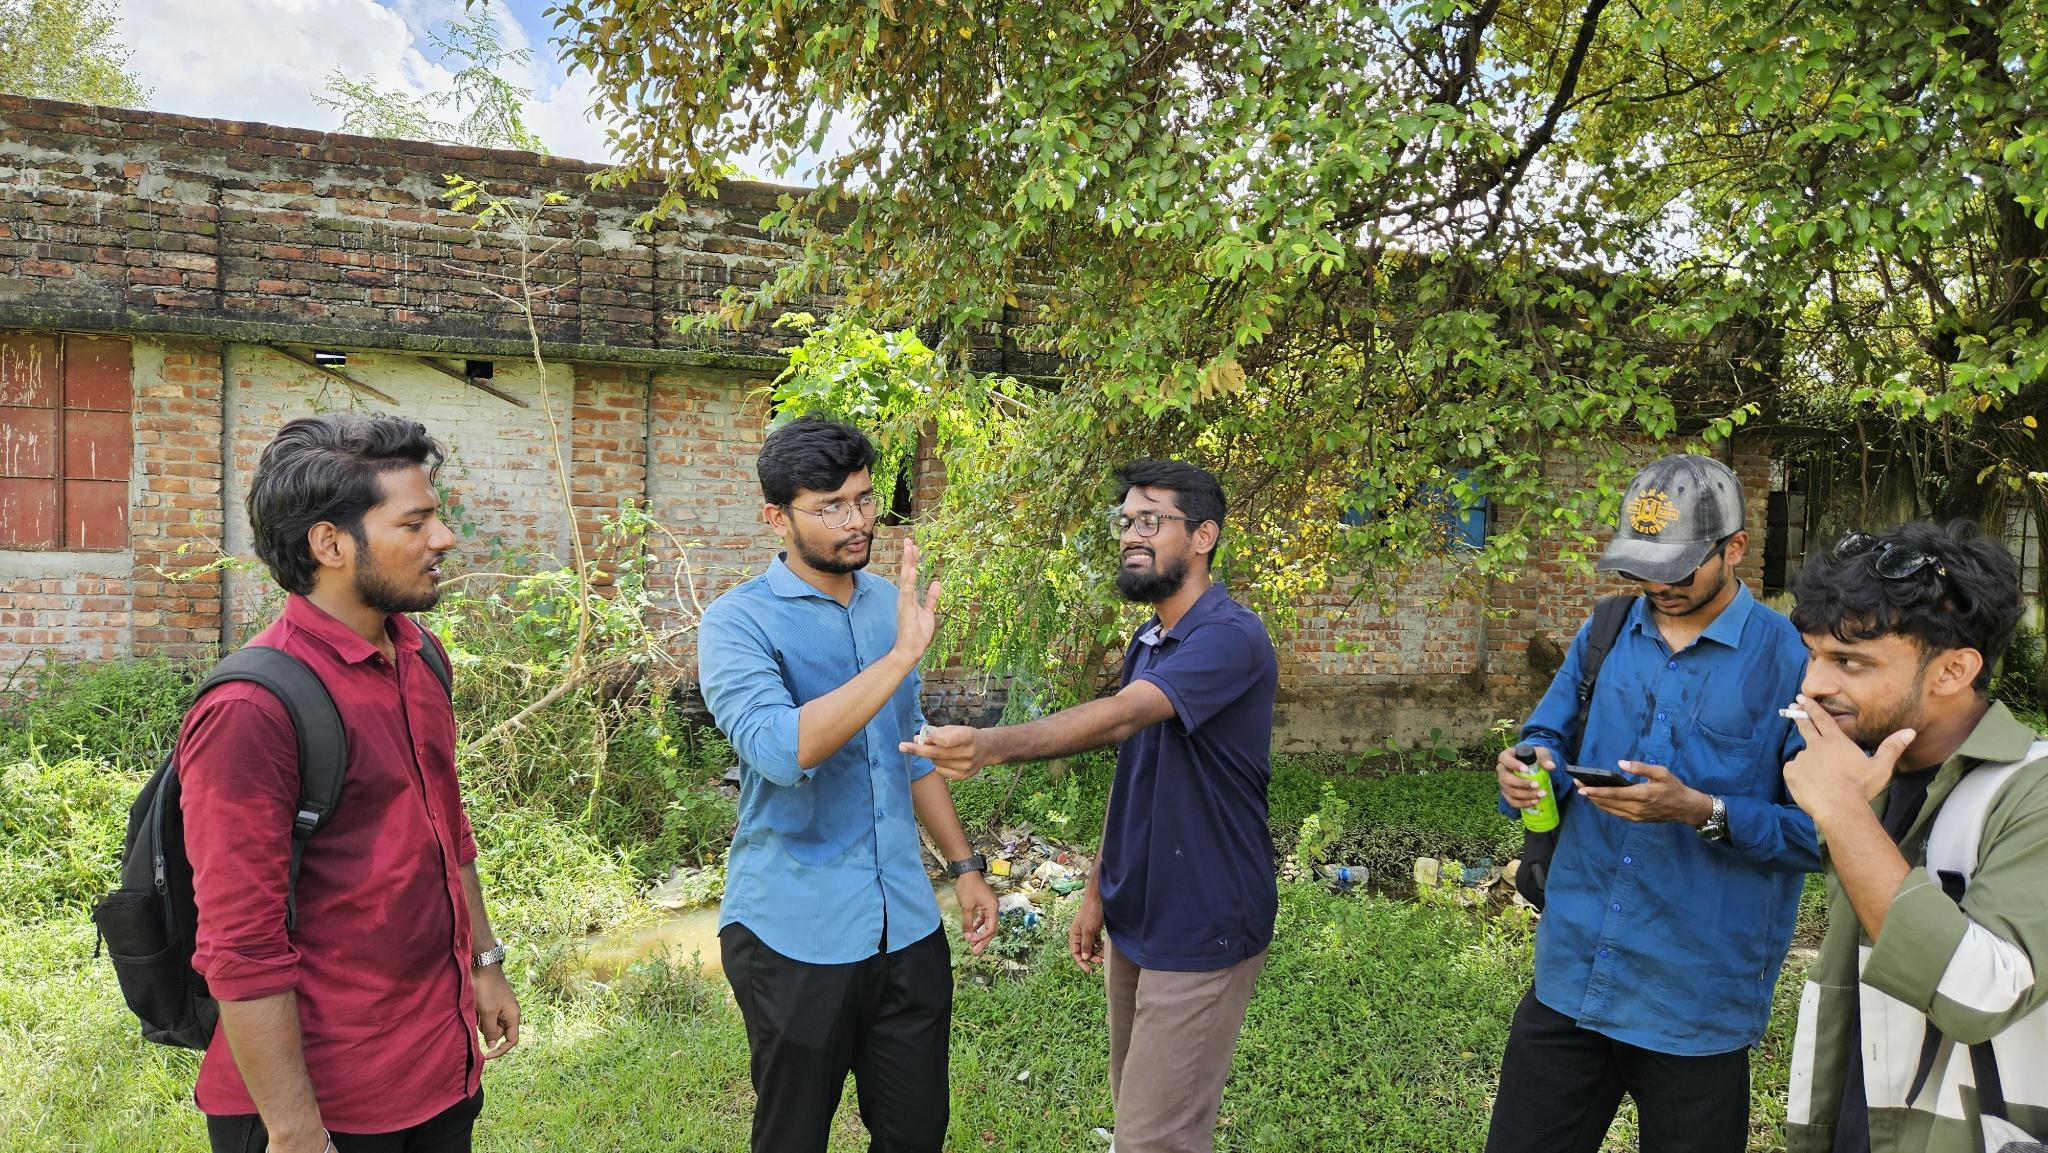cigarette: (1775, 706, 1813, 723), (916, 723, 930, 748)
nonSmoker: (90, 413, 526, 1153), (698, 415, 999, 1153), (1490, 454, 1805, 1153)
smoker: (900, 457, 1279, 1153), (1782, 516, 2048, 1153)
